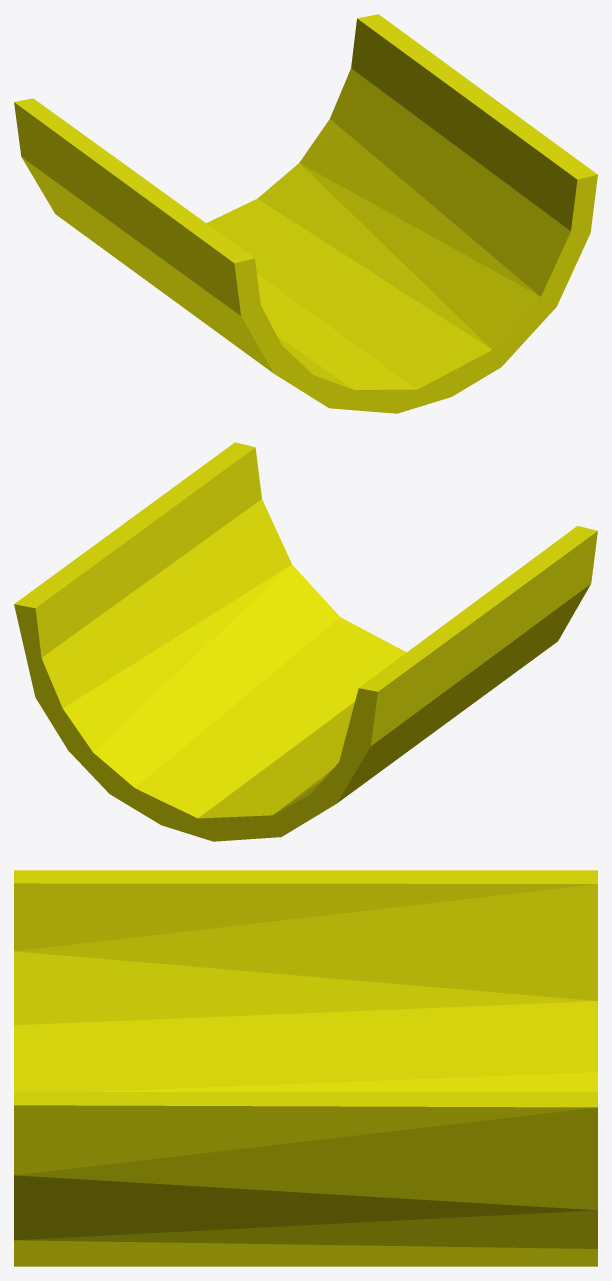
The model's file is half pipe collision.fbx.
3 renders of one model, top to bottom at view 1: azimuth 30°, elevation 25°; view 2: azimuth 150°, elevation 25°; view 3: azimuth 270°, elevation 25°, orthographic. The views are drawn at different scales.
Visible parts, largest first — view 1: half pipe collision; view 2: half pipe collision; view 3: half pipe collision.
Part boxes in pixels (left/top/right/bottom): half pipe collision: left=14, top=14, right=597, bottom=413; half pipe collision: left=14, top=442, right=597, bottom=841; half pipe collision: left=14, top=870, right=597, bottom=1266.
Bounding box in the file's own units: 201 × 100 × 210.
